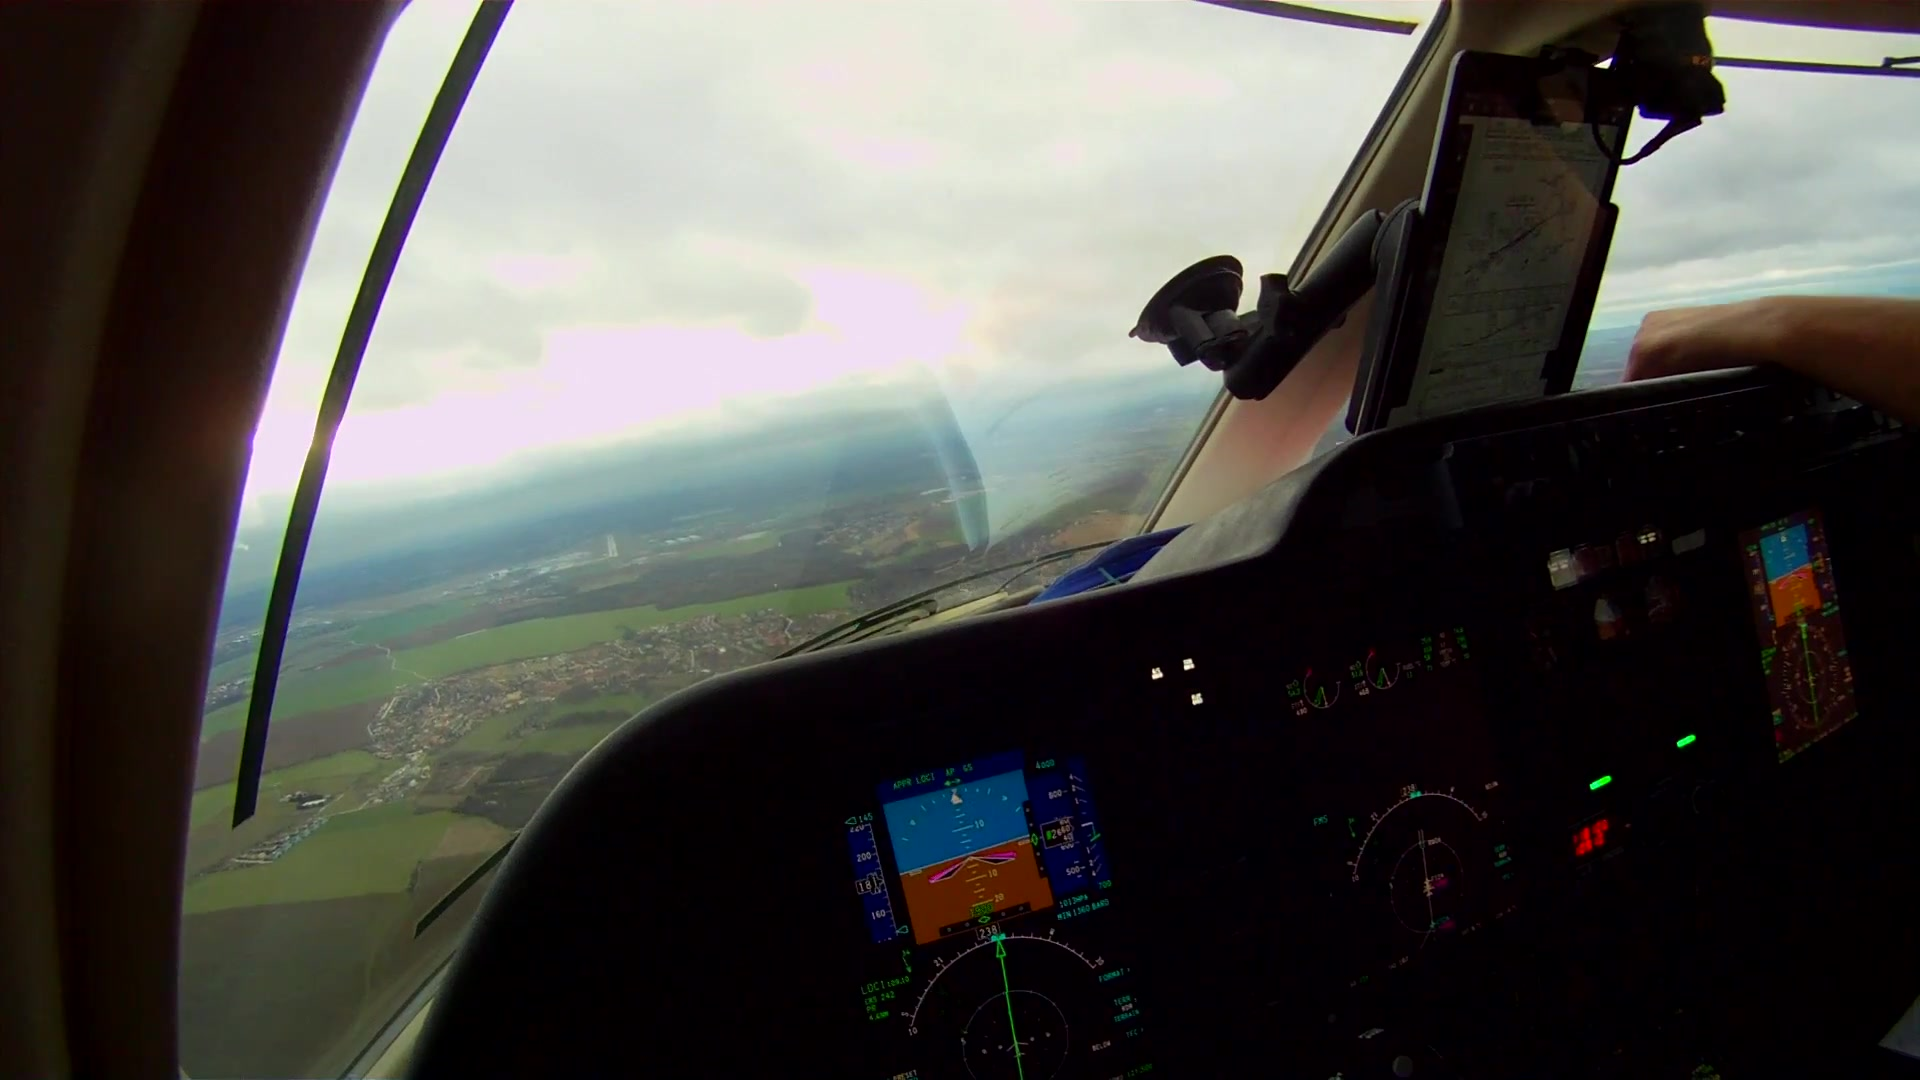runway: (601, 533, 622, 560)
